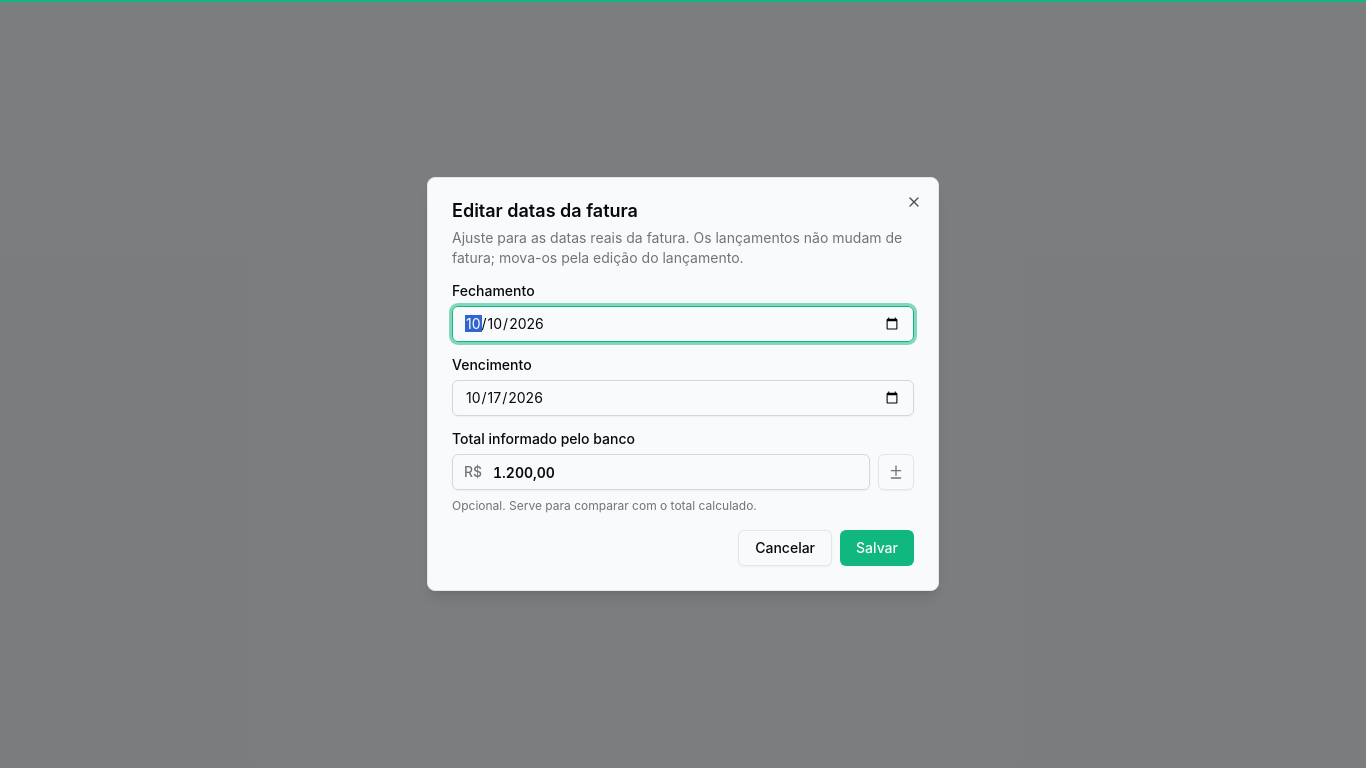
it: StatementDatesDialog › erro 422 em due_date aparece no campo
Click the button "Salvar" at (877, 548), box x1=840 y1=530 x2=914 y2=566
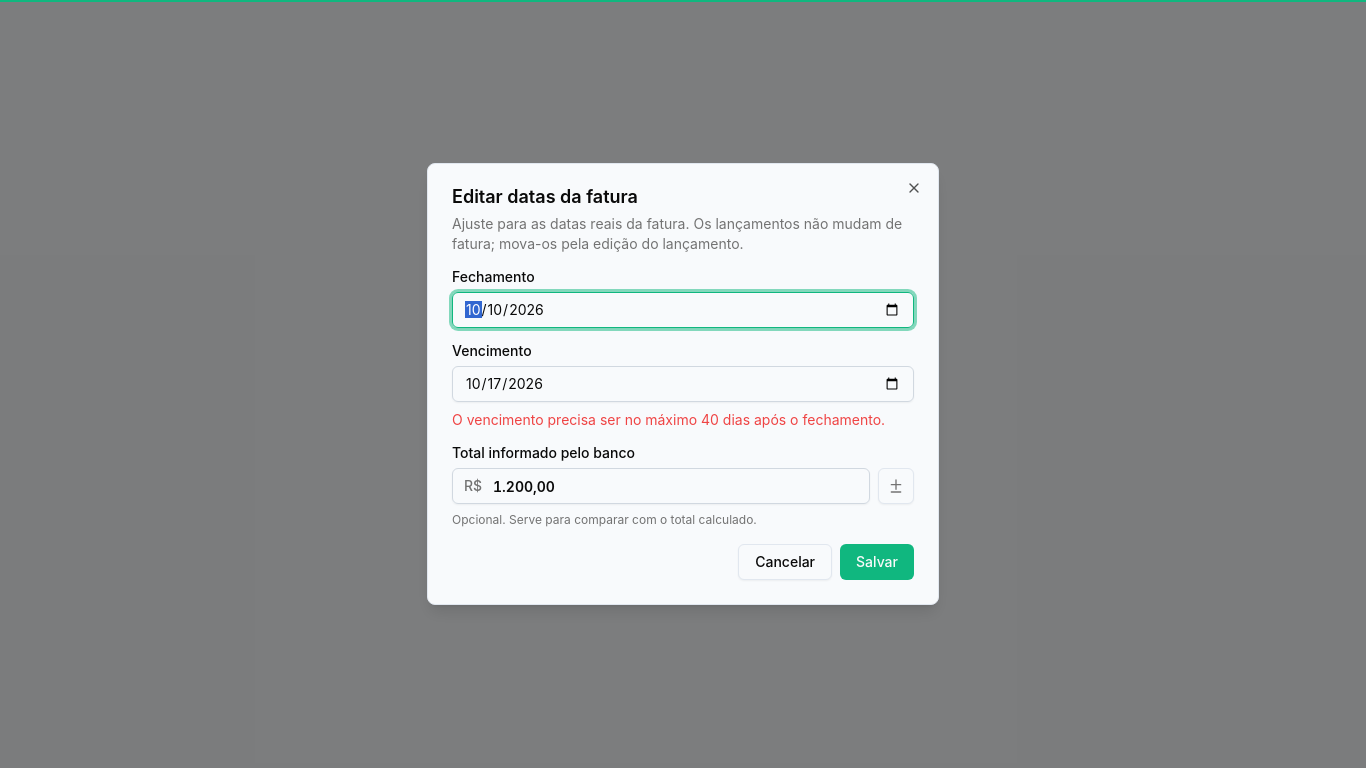
Result: the text "O vencimento precisa ser no máximo 40 dias após o fechamento." is shown at x1=452 y1=410 x2=914 y2=430
